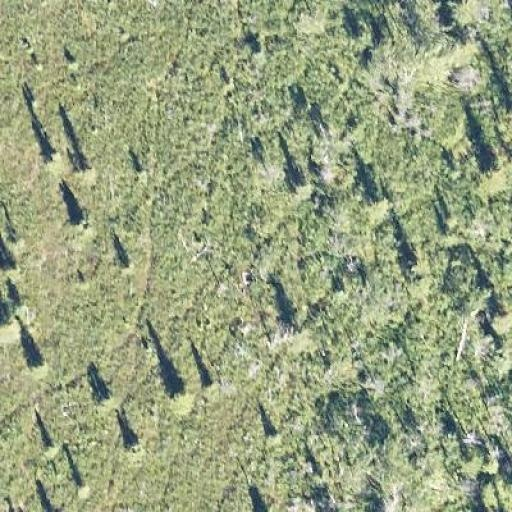tree-top: (477, 154, 507, 186), (164, 383, 196, 411), (65, 208, 96, 236), (286, 172, 312, 200), (72, 156, 100, 182), (91, 387, 119, 412), (119, 435, 145, 461), (27, 353, 51, 378), (262, 427, 284, 449), (404, 257, 424, 281), (40, 436, 60, 454), (203, 378, 220, 399), (46, 148, 62, 170)
